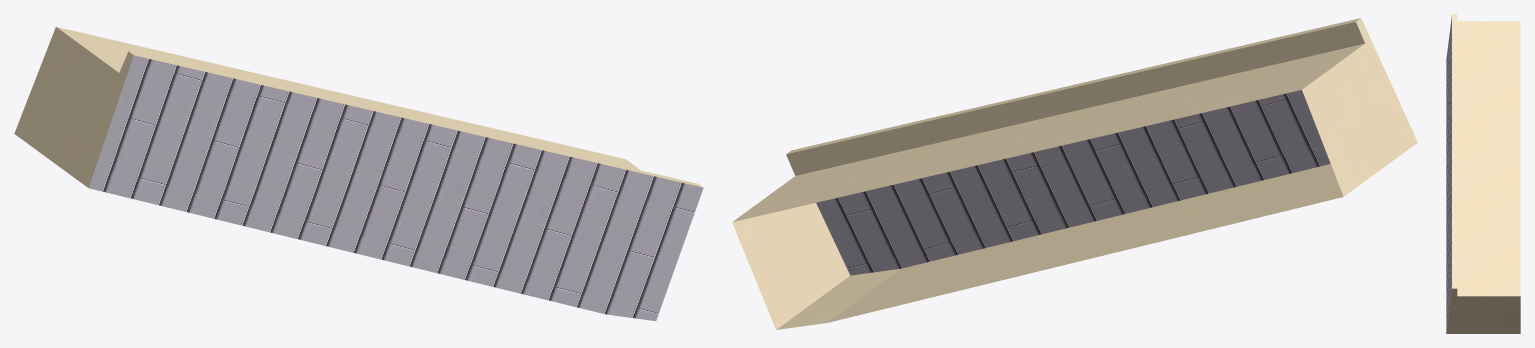
The model's file is Pikk_51_2-origo.obj.
3 views of the same model, side by side, from view 1: azimuth 30°, elevation 25°; view 2: azimuth 150°, elevation 25°; view 3: azimuth 270°, elevation 25° (orthographic). The views are drawn at different scales.
Parts seen in each view (by area): view 1: Pikk_51_2; view 2: Pikk_51_2; view 3: Pikk_51_2.
Part boxes in pixels (x1=…): Pikk_51_2: x1=14, y1=26, x2=703, y2=321; Pikk_51_2: x1=732, y1=18, x2=1417, y2=329; Pikk_51_2: x1=1446, y1=14, x2=1520, y2=333.
Size of the model in its own units: 16.75 by 10 by 3.47.
